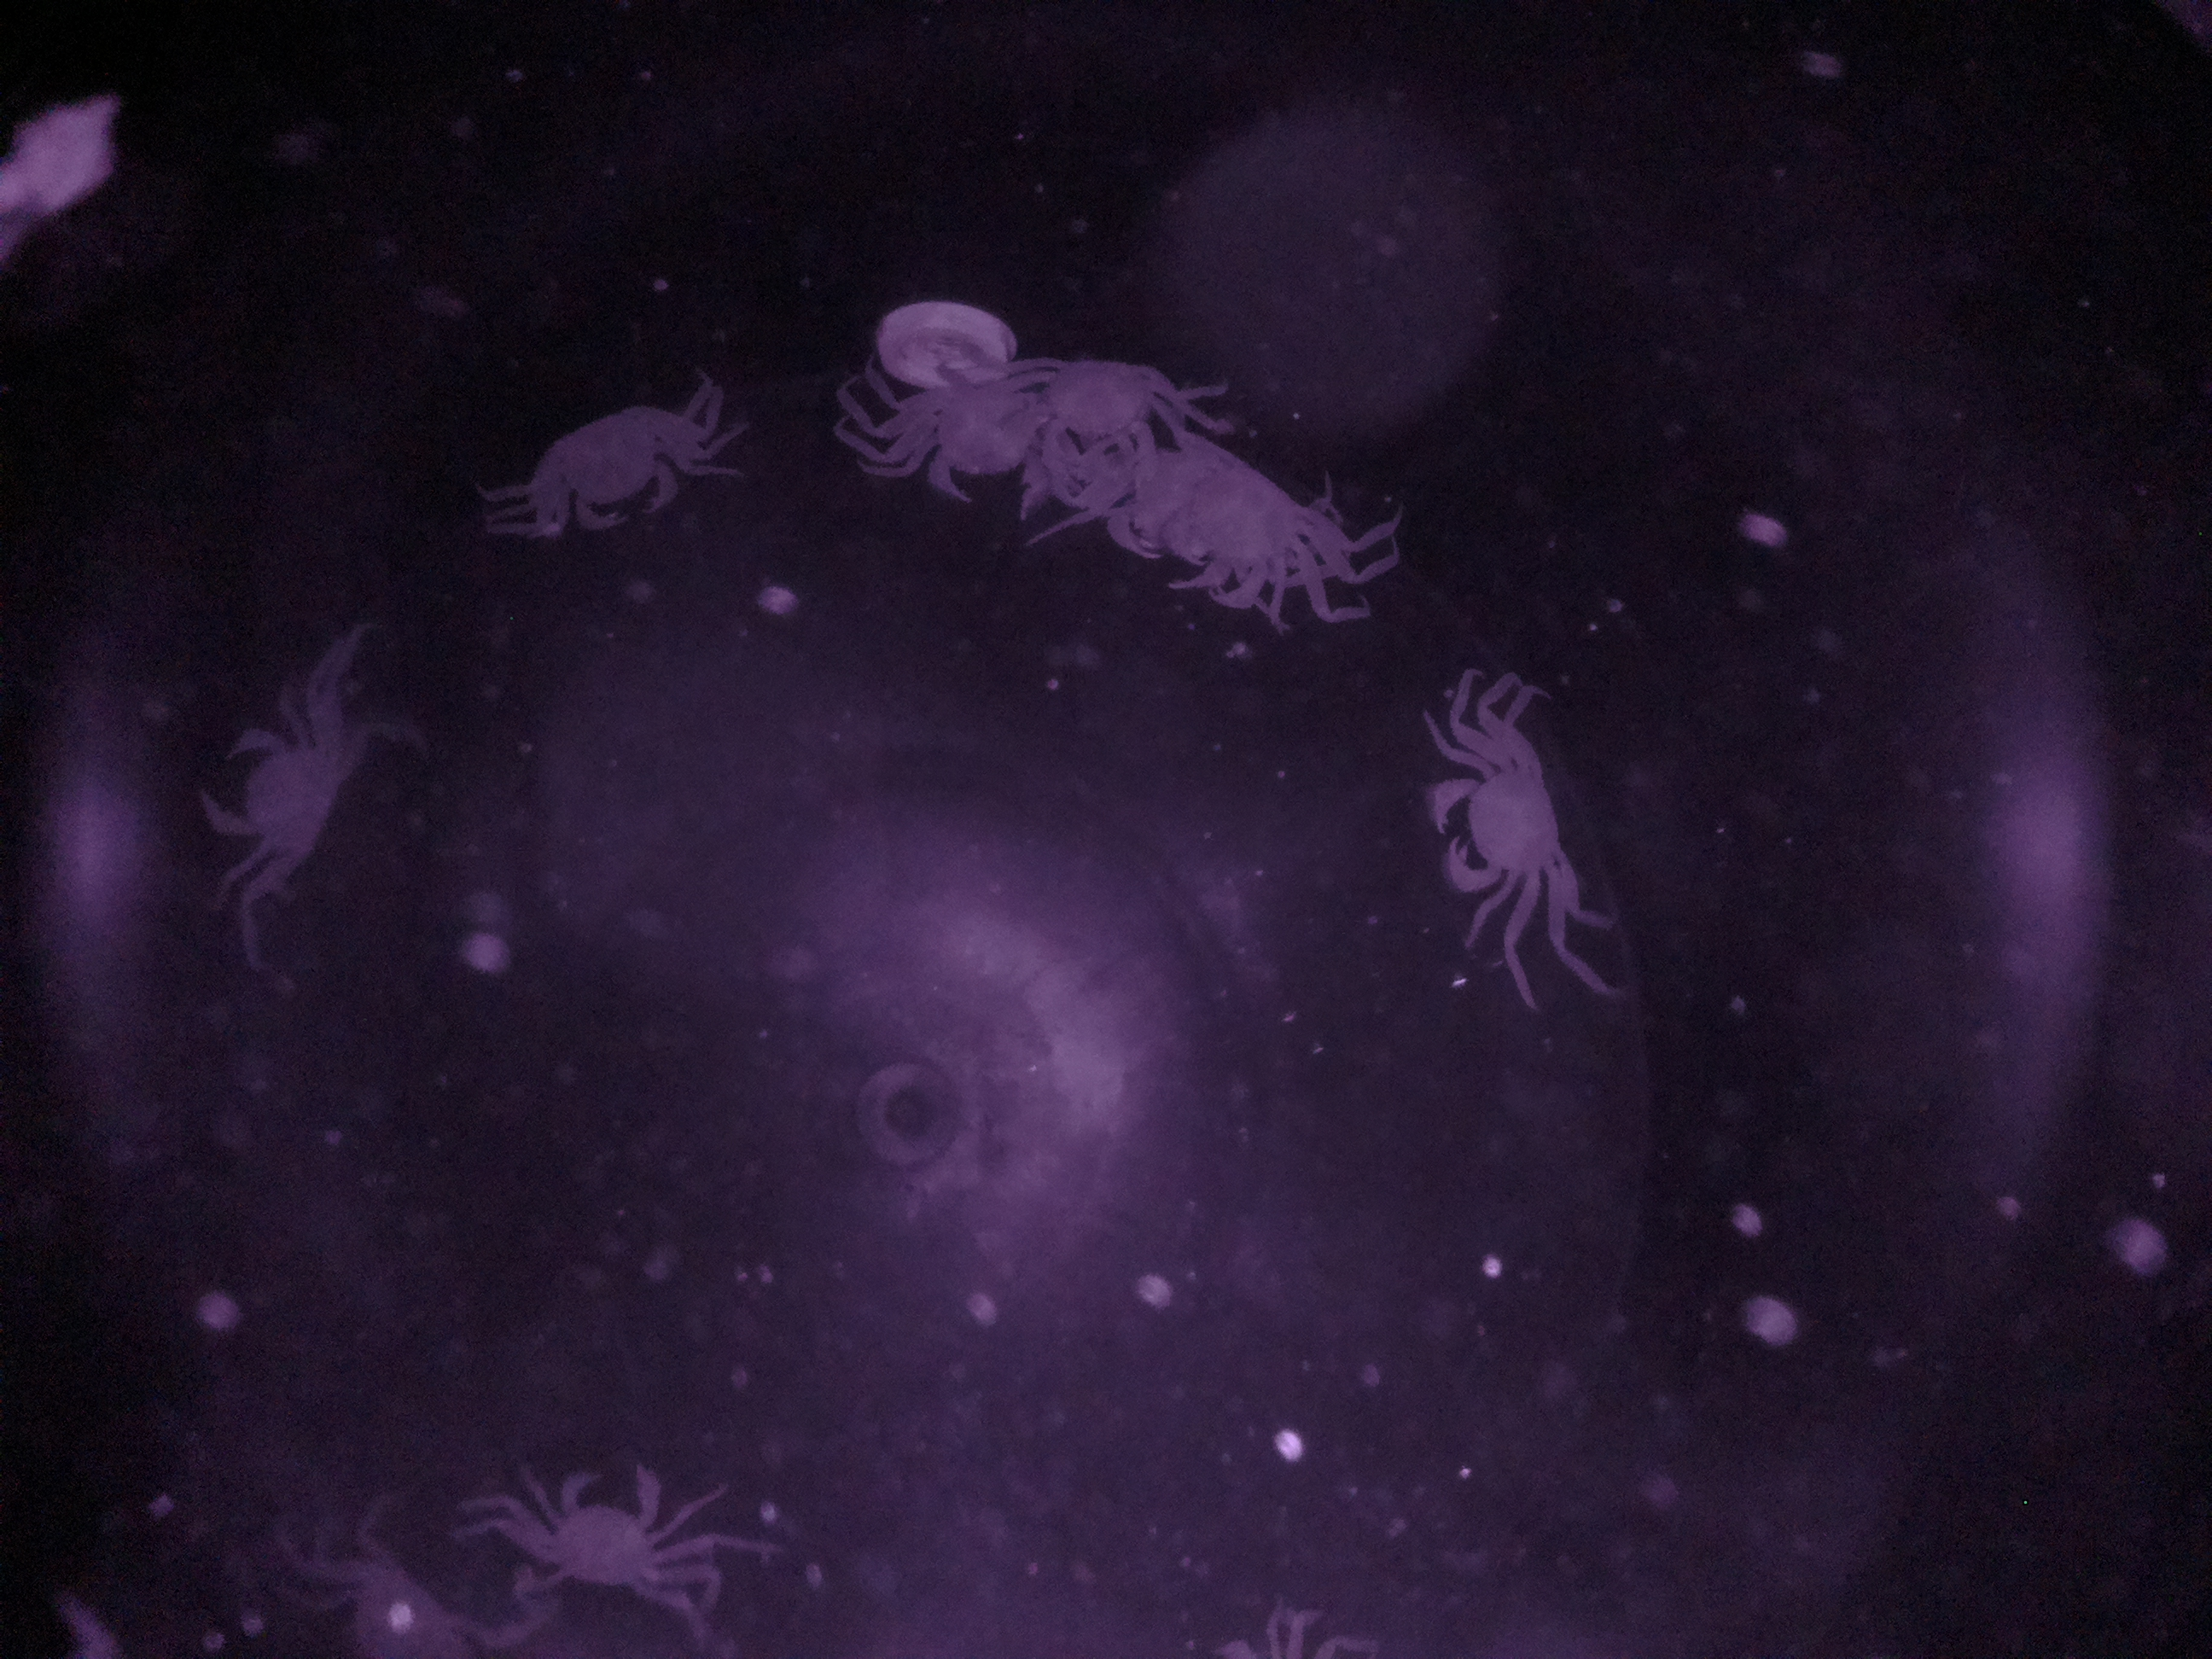Crab: (1409, 720, 1613, 941), (192, 711, 416, 889), (502, 1439, 698, 1621), (524, 397, 723, 547)
